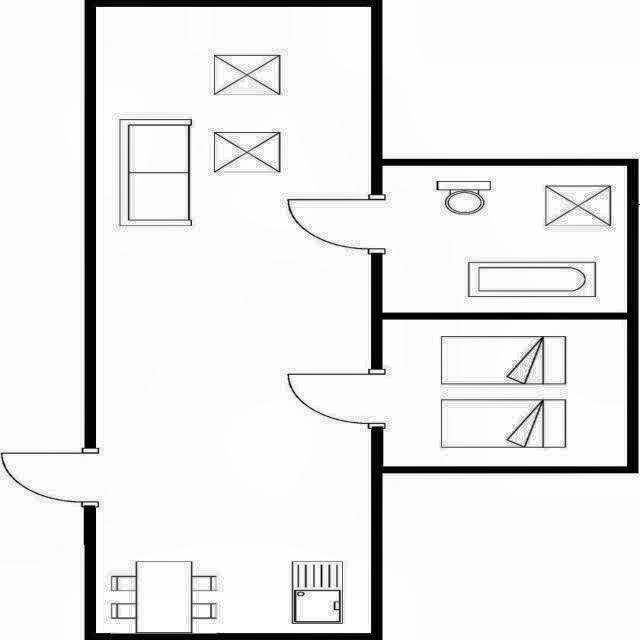room: (96, 7, 370, 633), (383, 320, 627, 467)
